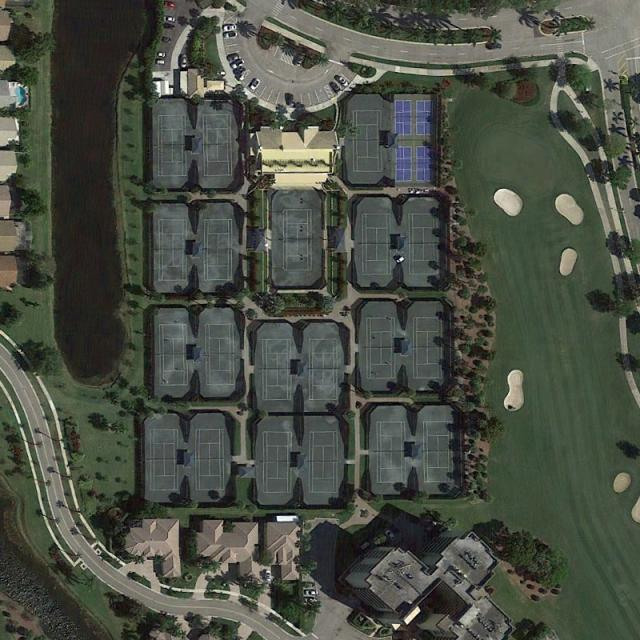vehicle: (230, 58, 246, 69), (294, 52, 305, 66), (338, 75, 350, 87), (250, 78, 260, 90), (331, 82, 341, 94), (226, 54, 241, 61), (487, 43, 502, 50), (265, 570, 272, 584), (286, 93, 294, 105), (304, 590, 318, 596), (225, 32, 238, 38), (181, 55, 187, 68), (223, 25, 237, 30), (164, 16, 175, 22), (164, 2, 175, 8), (164, 23, 175, 29), (305, 598, 318, 603), (302, 582, 314, 587), (162, 37, 171, 42), (158, 52, 166, 57), (158, 60, 165, 64)
